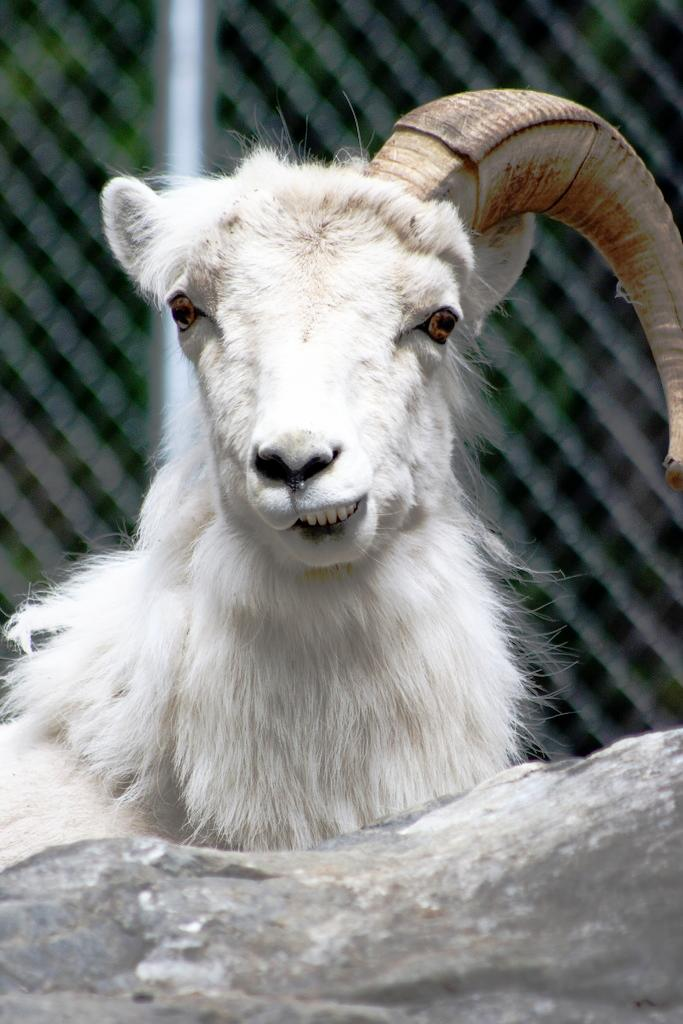Sheep: (0, 82, 681, 866)
